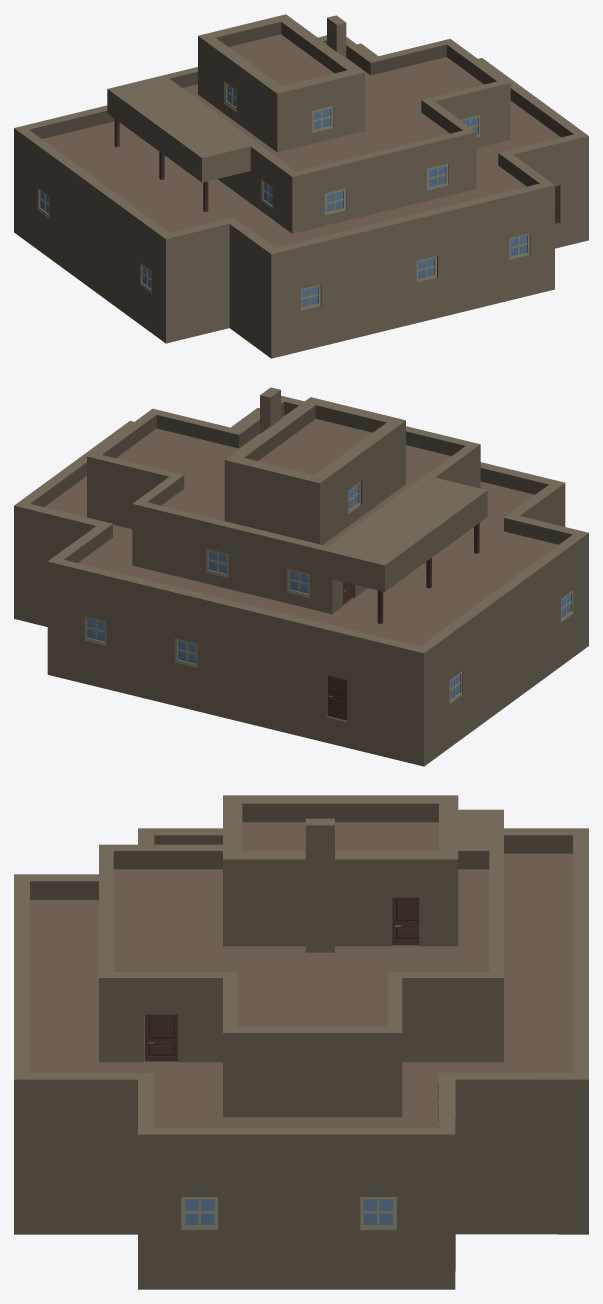
File: Residential_LargeAdobeHouse_alt01.glb
3 renders of one model, top to bottom at view 1: azimuth 30°, elevation 25°; view 2: azimuth 150°, elevation 25°; view 3: azimuth 270°, elevation 25°, orthographic. The views are drawn at different scales.
Visible parts, largest first — view 1: base.140, windowRefl.109; view 2: base.140, windowRefl.109; view 3: base.140, windowRefl.109.
Part boxes in pixels (<box>): base.140: <box>14,14,588,358</box>; windowRefl.109: <box>40,84,527,307</box>; base.140: <box>14,387,588,766</box>; windowRefl.109: <box>87,485,570,699</box>; base.140: <box>14,795,588,1289</box>; windowRefl.109: <box>185,1199,392,1225</box>.
Size of the model in its own units: 39.39 by 19.74 by 31.24.
